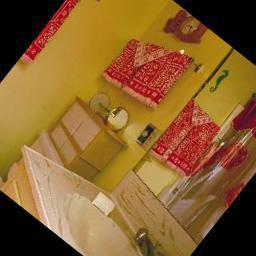Lavamanos: (41, 174, 185, 256)
